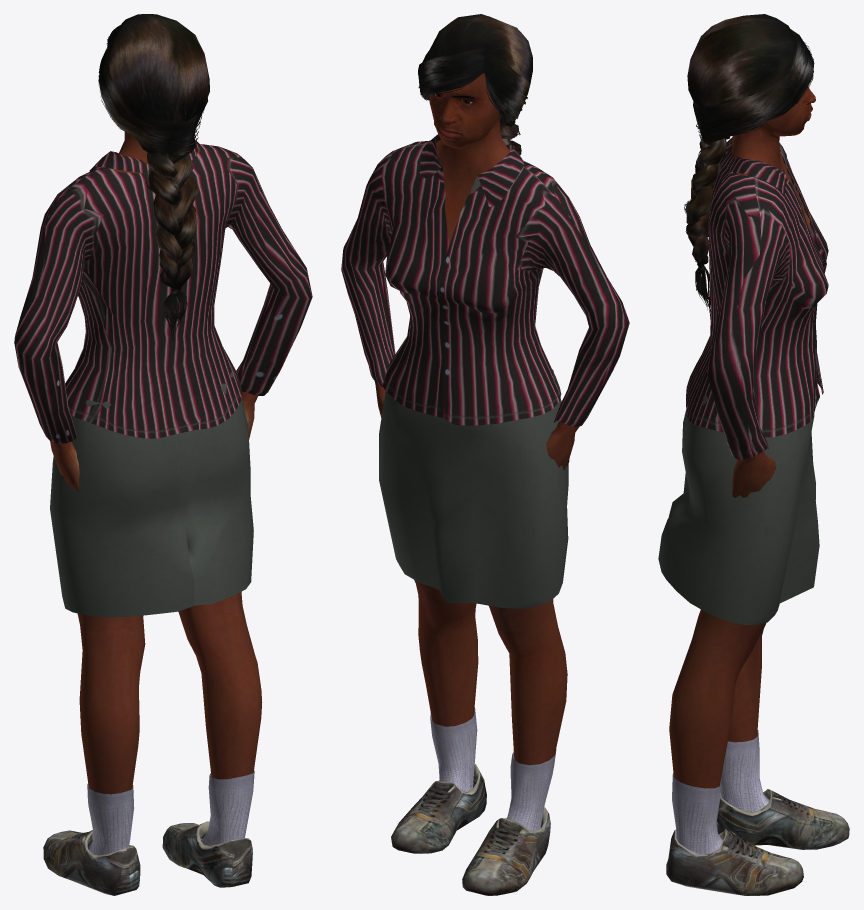
Rendered from hands_on_hips_2.gltf.
The picture shows the model from 3 angles, left to right: view 1: azimuth 30°, elevation 25°; view 2: azimuth 150°, elevation 25°; view 3: azimuth 270°, elevation 25°; orthographic projection. The views are drawn at different scales.
Visible parts, largest first — view 1: hands_on_hips; view 2: hands_on_hips; view 3: hands_on_hips.
Boxes of the visible parts, x1,y1,x2,y2 form: hands_on_hips: [14, 14, 312, 895]; hands_on_hips: [341, 14, 629, 895]; hands_on_hips: [658, 14, 849, 895].
Size of the model in its own units: 0.5874 by 1.66 by 0.3404.
Materials: 6 (6 with a texture image).
